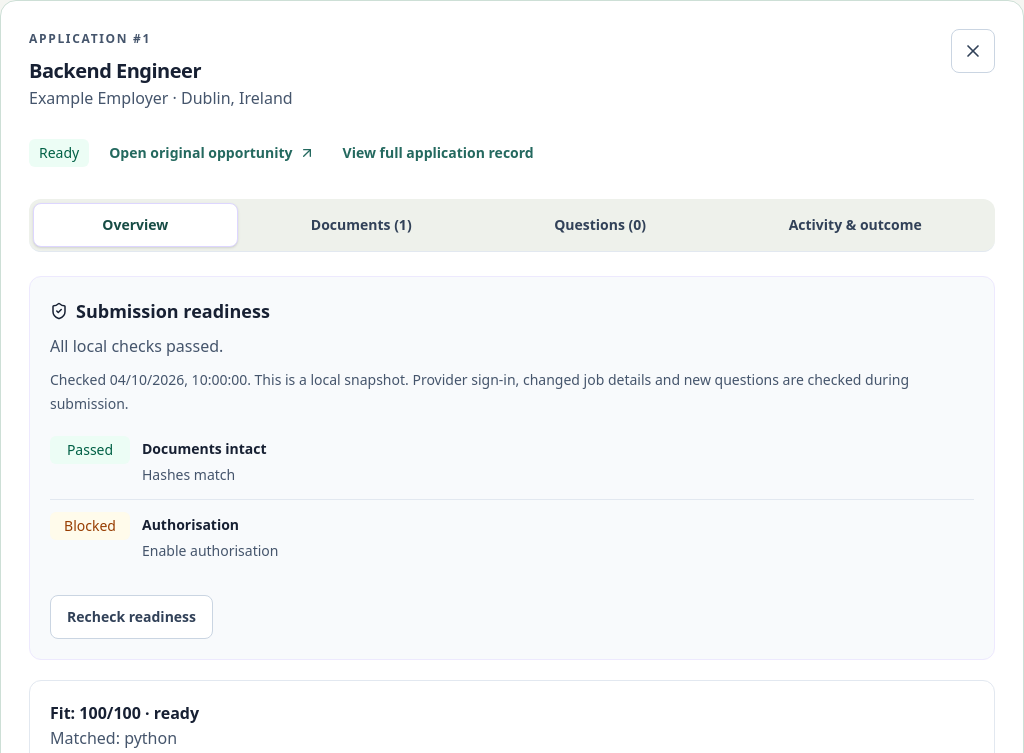
Test case: shows the collected questionnaire review and its reachable-page boundary
What coordinates should you click on to do the following:
click the tab "Questions (0)"
I would click on:
 (600, 224)
Its box is [485,202,715,246].
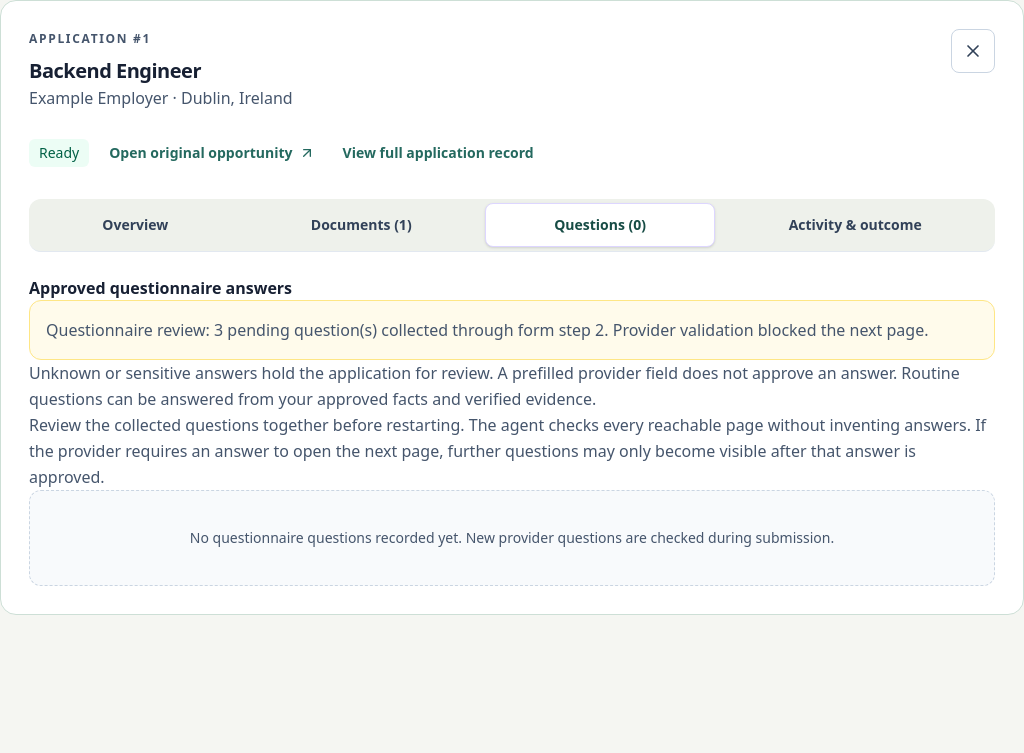
Check: the message shows "Questionnaire review: 3 pending question(s) collected through form step 2. Provider validation blocked the next page.", box [46,318,928,340]
Check: the text "Review the collected questions together" shows "provider requires an answer", box [29,414,986,488]
